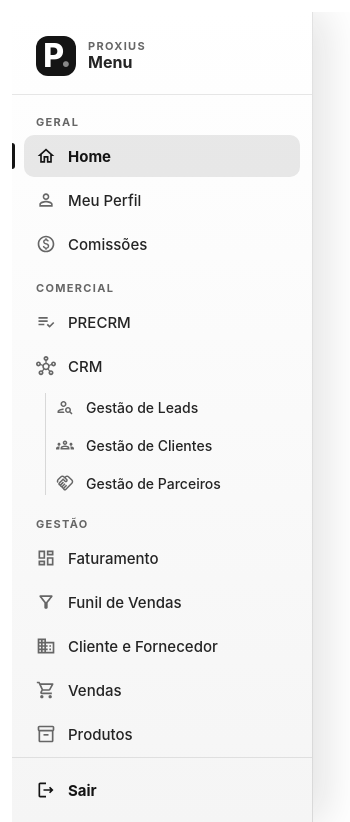
Test: Sidebar › fecha ao clicar em PRECRM e preserva a rota
Click the link "PRECRM" at coordinates (83, 322), box [36, 312, 131, 332]
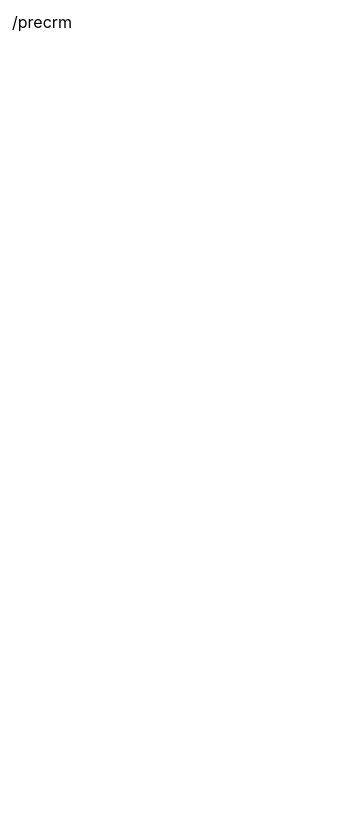
Expected: the text named "Rota atual" reads "/precrm", [12, 12, 72, 32]
